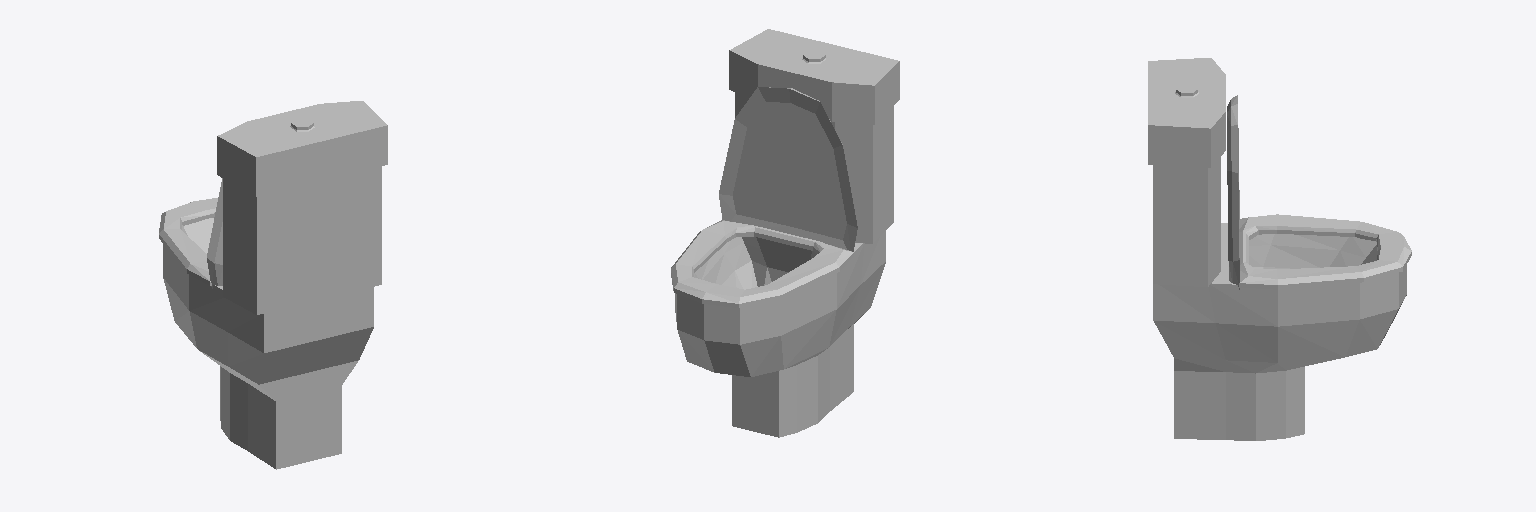
File: pcity_nodes_toilet_open.obj
3 views of the same model, side by side, from view 1: azimuth 30°, elevation 25°; view 2: azimuth 150°, elevation 25°; view 3: azimuth 270°, elevation 25° (orthographic).
Parts seen in each view (by area): view 1: Tank, Toilet, Seat, Cover; view 2: Toilet, Cover, Tank, Seat; view 3: Toilet, Tank, Seat, Cover.
Boxes of the visible parts, x1,y1,x2,y2 form: Tank: [217, 101, 387, 314]; Toilet: [163, 218, 373, 469]; Seat: [159, 198, 217, 285]; Cover: [207, 178, 222, 288]; Toilet: [675, 231, 885, 437]; Cover: [719, 87, 857, 251]; Tank: [729, 29, 899, 243]; Seat: [671, 220, 853, 307]; Toilet: [1153, 223, 1406, 440]; Tank: [1148, 58, 1225, 286]; Seat: [1239, 214, 1411, 289]; Cover: [1227, 95, 1239, 289].
Size of the model in its own units: 0.777 by 1.7 by 1.22.